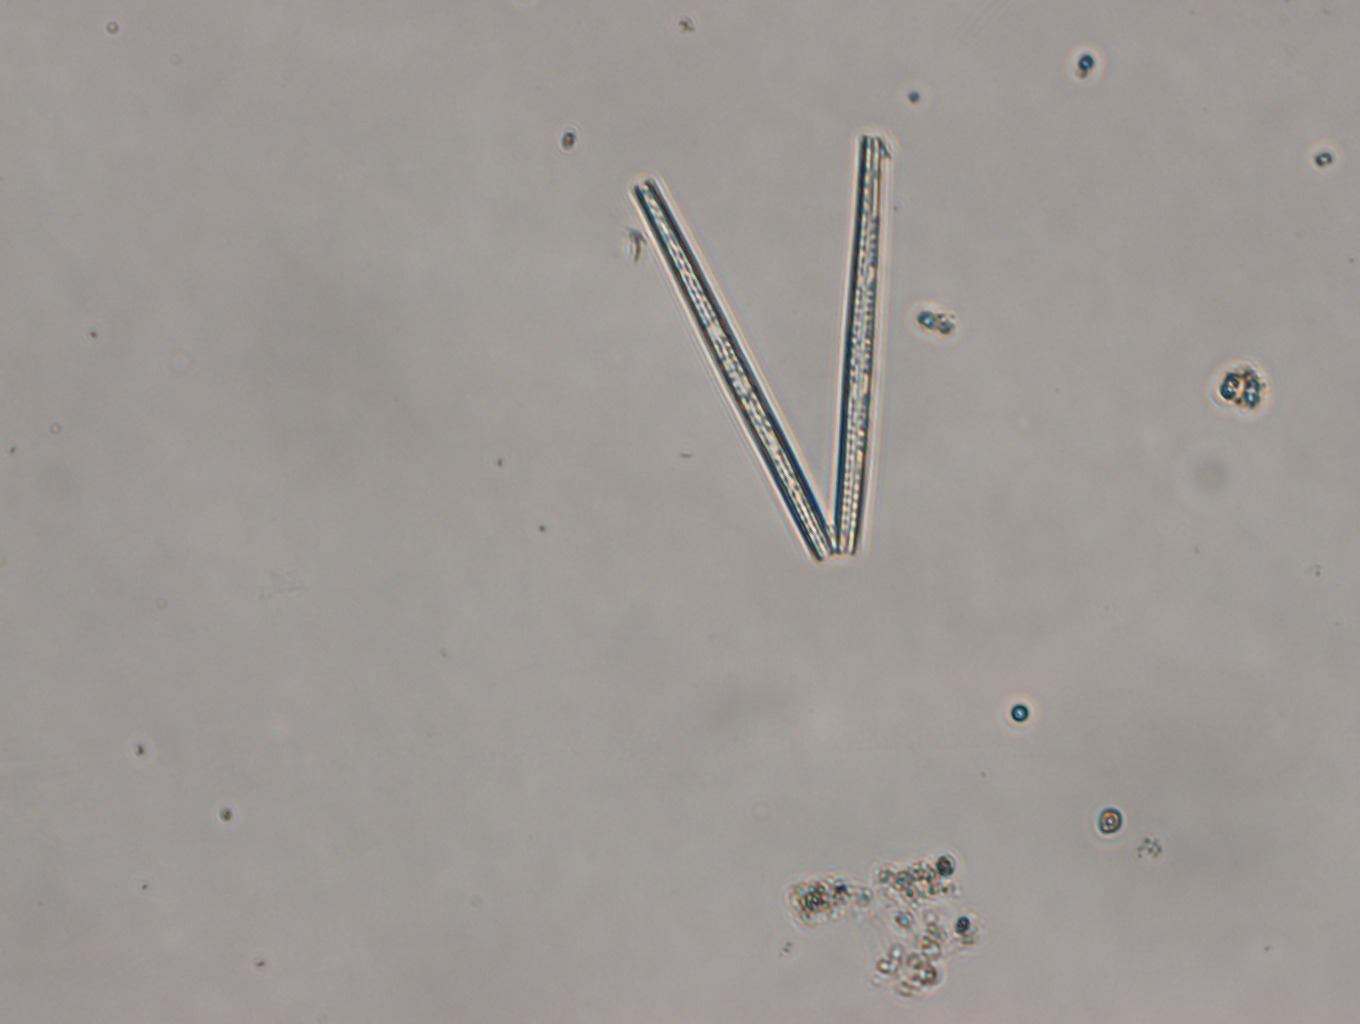thalassionema frauenfeldii: (626, 136, 889, 564)
